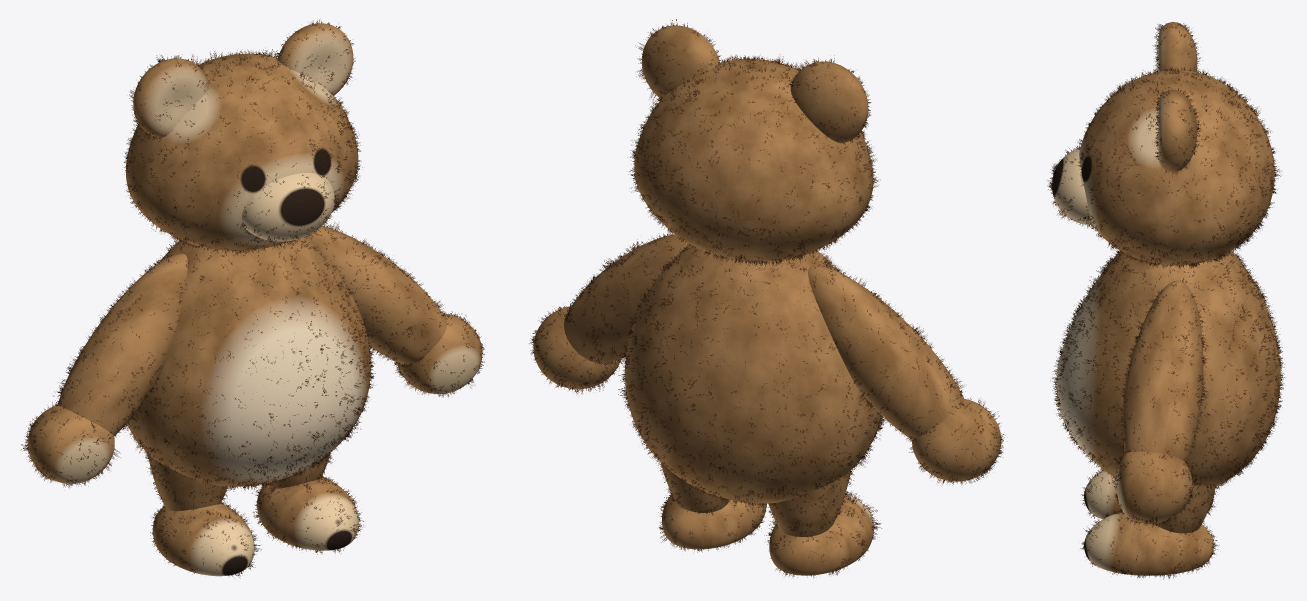
The model's file is TeddyBear_full.fbx.
The picture shows the model from 3 angles, left to right: view 1: azimuth 30°, elevation 25°; view 2: azimuth 150°, elevation 25°; view 3: azimuth 270°, elevation 25°; orthographic projection. The views are drawn at different scales.
Visible parts, largest first — view 1: Torso, Head, Arms, Legs, Torso_Fur, Head_Fur, Arms_Fur, Legs_Fur; view 2: Torso, Head, Arms, Legs, Head_Fur, Torso_Fur, Arms_Fur, Legs_Fur; view 3: Head, Torso, Arms, Legs, Head_Fur, Torso_Fur, Arms_Fur, Legs_Fur.
Boxes of the visible parts, x1=… form: Torso: x1=127, y1=236, x2=370, y2=486; Head: x1=126, y1=23, x2=358, y2=250; Arms: x1=28, y1=226, x2=482, y2=483; Legs: x1=148, y1=452, x2=358, y2=576; Torso_Fur: x1=126, y1=235, x2=375, y2=491; Head_Fur: x1=124, y1=19, x2=362, y2=255; Arms_Fur: x1=20, y1=222, x2=484, y2=488; Legs_Fur: x1=144, y1=451, x2=363, y2=578; Torso: x1=625, y1=244, x2=882, y2=503; Head: x1=634, y1=25, x2=873, y2=261; Arms: x1=533, y1=234, x2=1001, y2=481; Legs: x1=660, y1=462, x2=873, y2=575; Head_Fur: x1=628, y1=19, x2=880, y2=266; Torso_Fur: x1=618, y1=245, x2=885, y2=509; Arms_Fur: x1=529, y1=233, x2=1005, y2=485; Legs_Fur: x1=658, y1=463, x2=881, y2=578; Head: x1=1052, y1=22, x2=1274, y2=265; Torso: x1=1056, y1=251, x2=1280, y2=485; Arms: x1=1116, y1=280, x2=1203, y2=523; Legs: x1=1084, y1=470, x2=1215, y2=575; Head_Fur: x1=1047, y1=22, x2=1281, y2=269; Torso_Fur: x1=1050, y1=250, x2=1284, y2=494; Arms_Fur: x1=1112, y1=277, x2=1207, y2=527; Legs_Fur: x1=1080, y1=469, x2=1219, y2=579.
Size of the model in its own units: 1.06 by 1.14 by 0.5147.
Materials: 5 (5 with a texture image).
